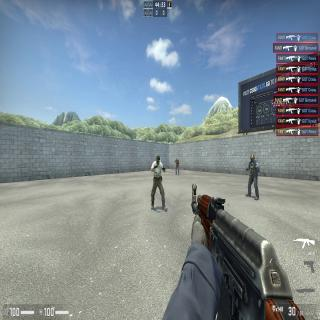CT-Body: (248, 153, 258, 198)
CT-Head: (251, 154, 254, 161)
T-Body: (151, 154, 164, 208), (176, 158, 179, 175)
T-Head: (156, 156, 160, 164), (176, 158, 178, 160)
